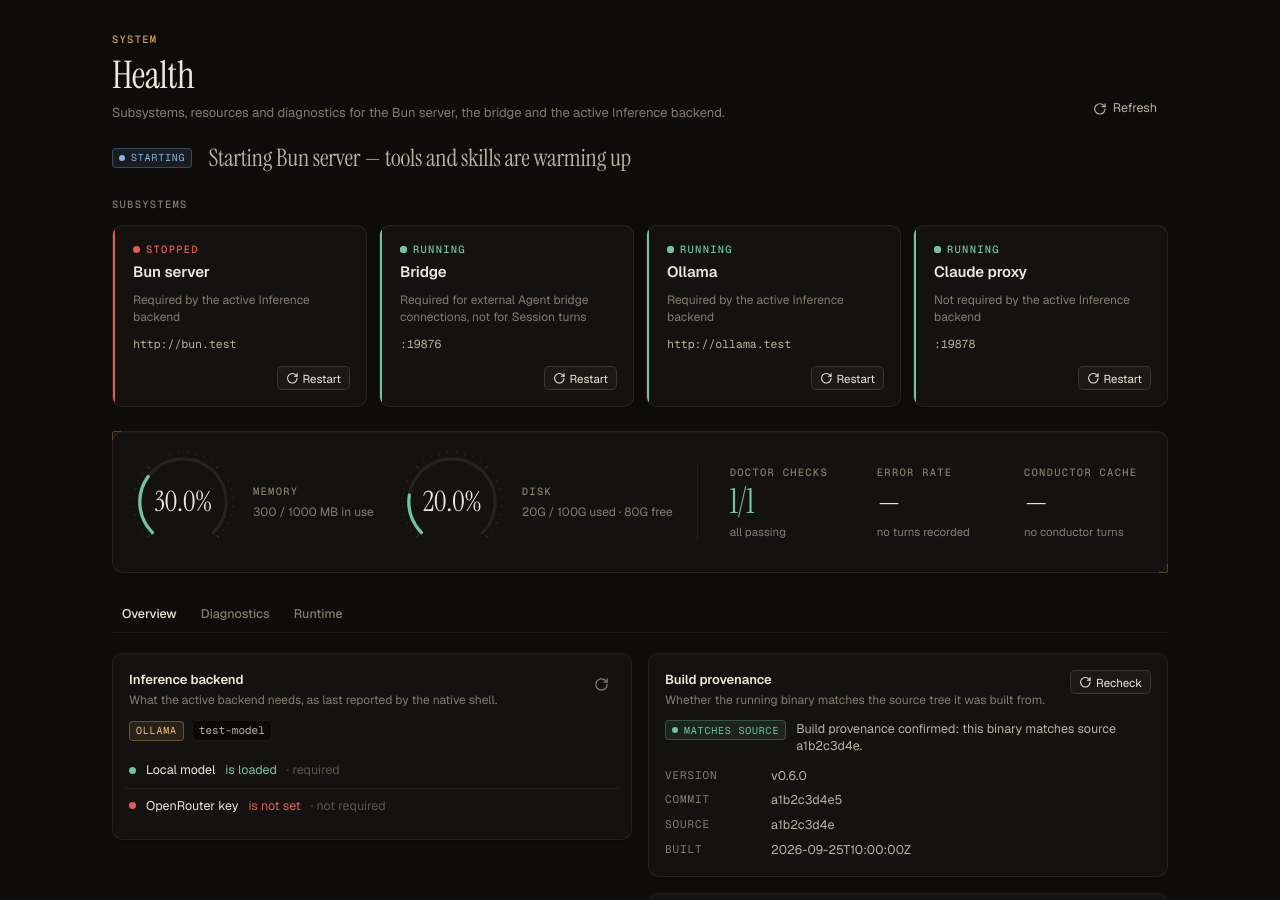
Test case: Health page verdict and gauges › re-reads status after a confirmed restart so the verdict agrees with the gauge
Check: the text "Starting Bun server — tools and skills are warming up" is shown, box [208, 143, 631, 173]
Step 1. Click the button with aria-label "Restart Bun server" → (313, 378), box [277, 366, 350, 390]
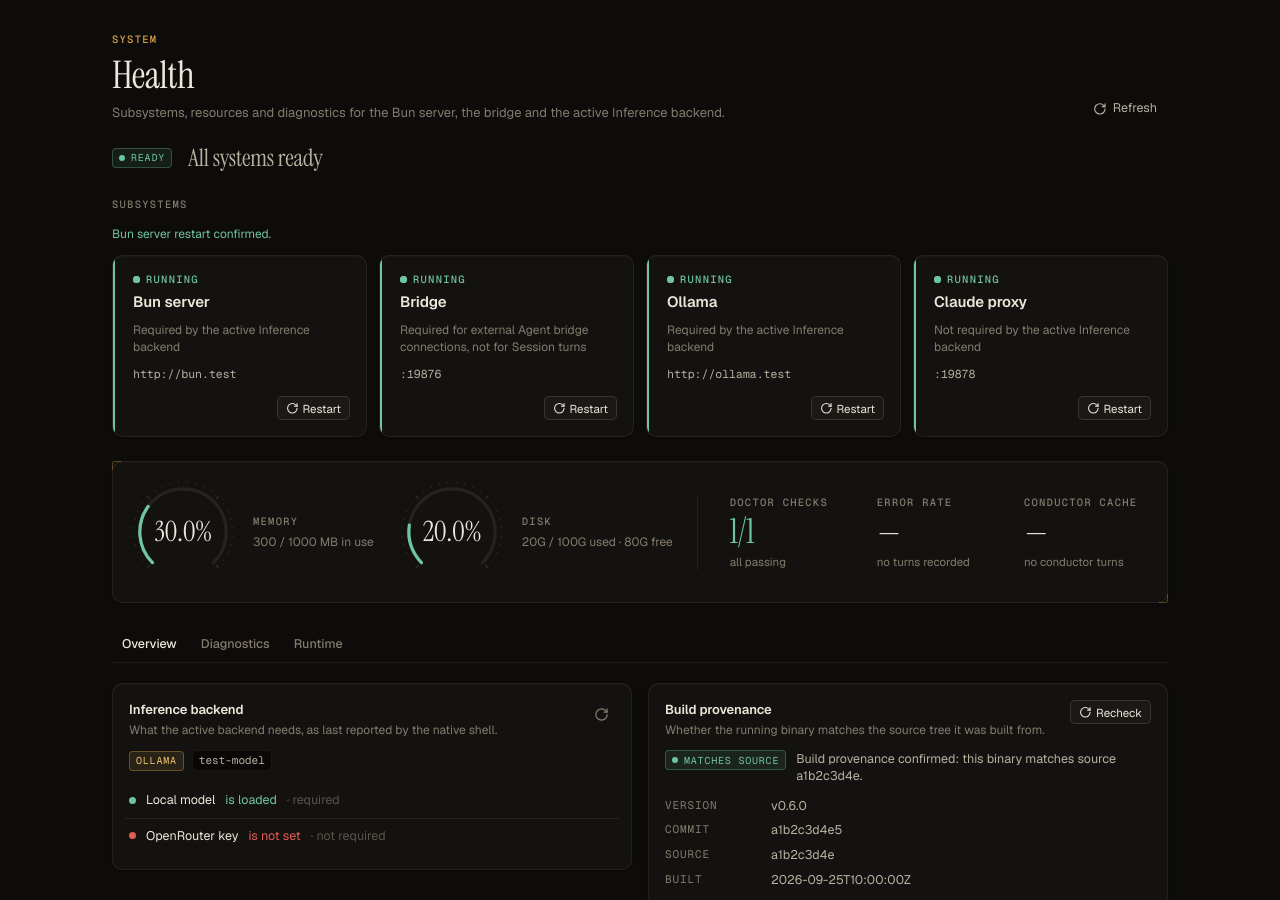
Check: the text "All systems ready" is shown, box [188, 143, 323, 173]
Check: the message named "Restart Bun server" shows "restart confirmed", box [171, 226, 271, 242]
